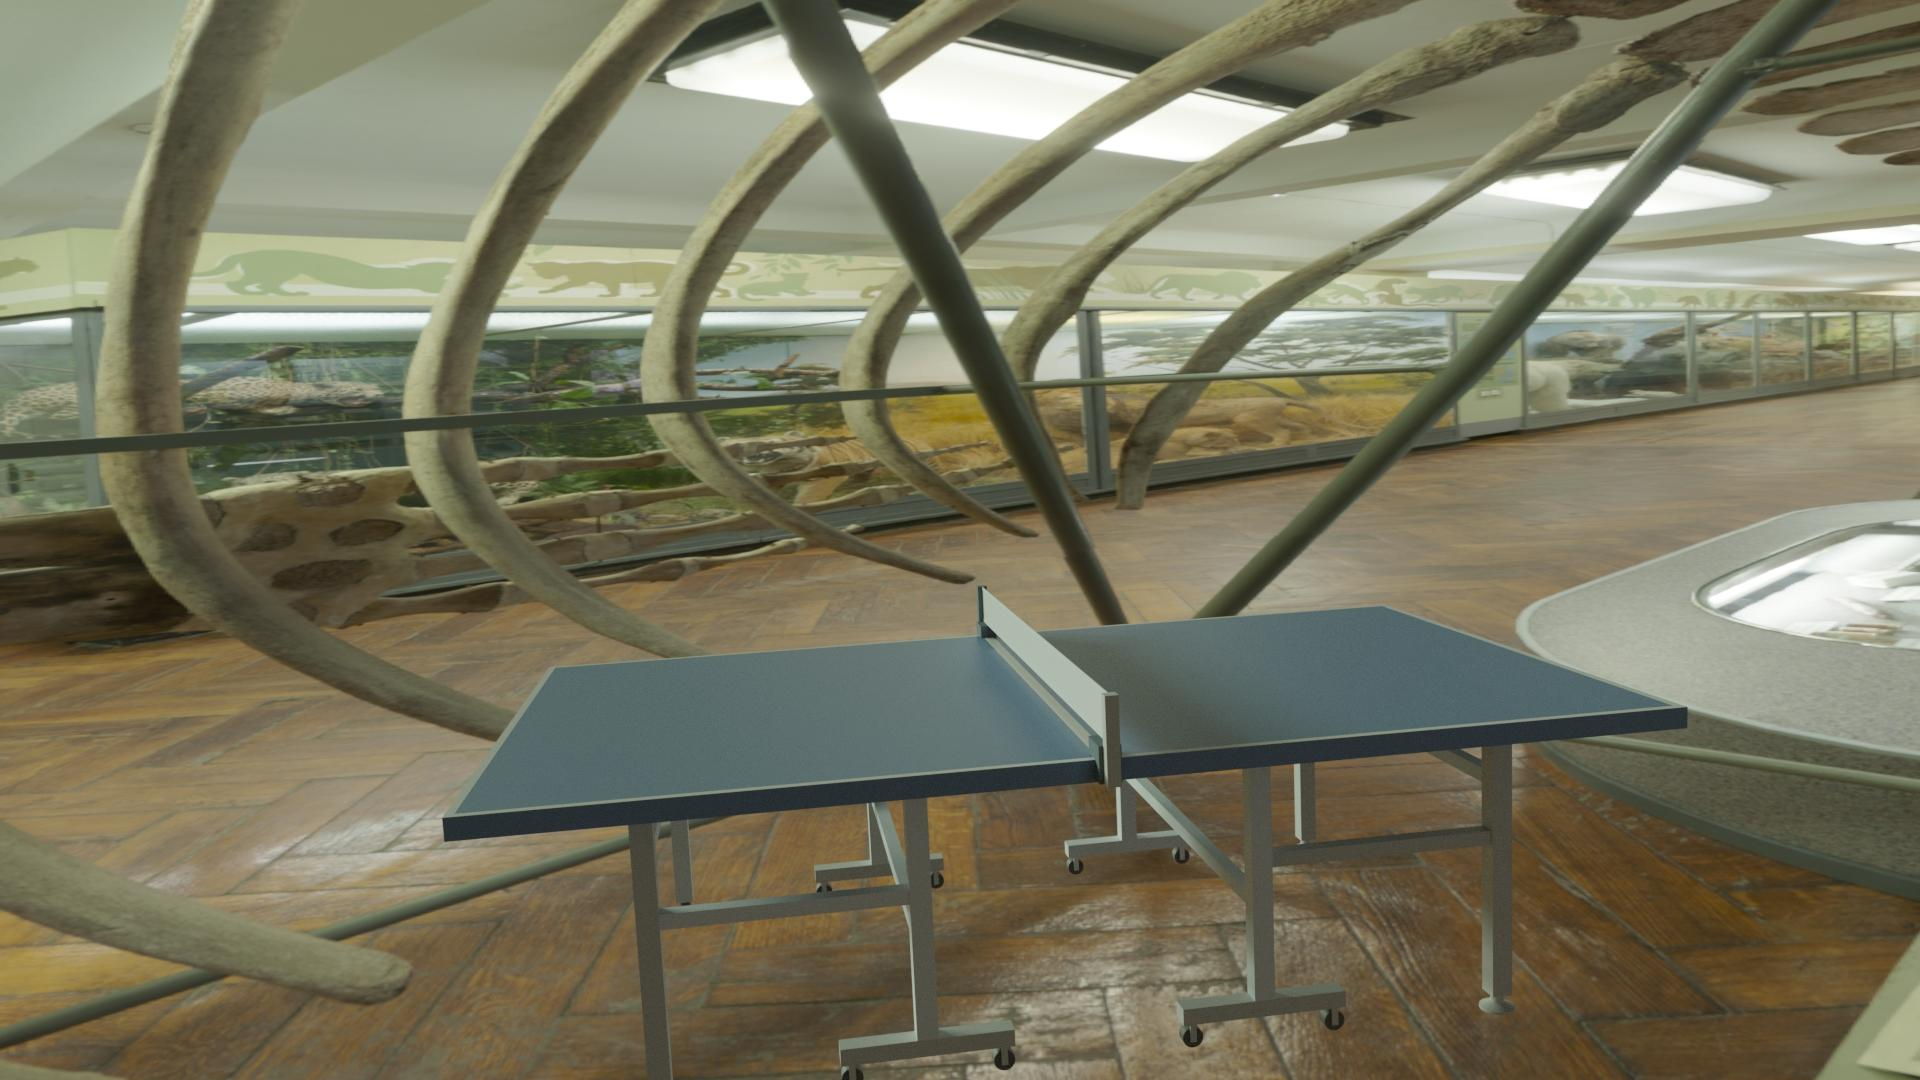table: (455, 607, 1673, 814)
